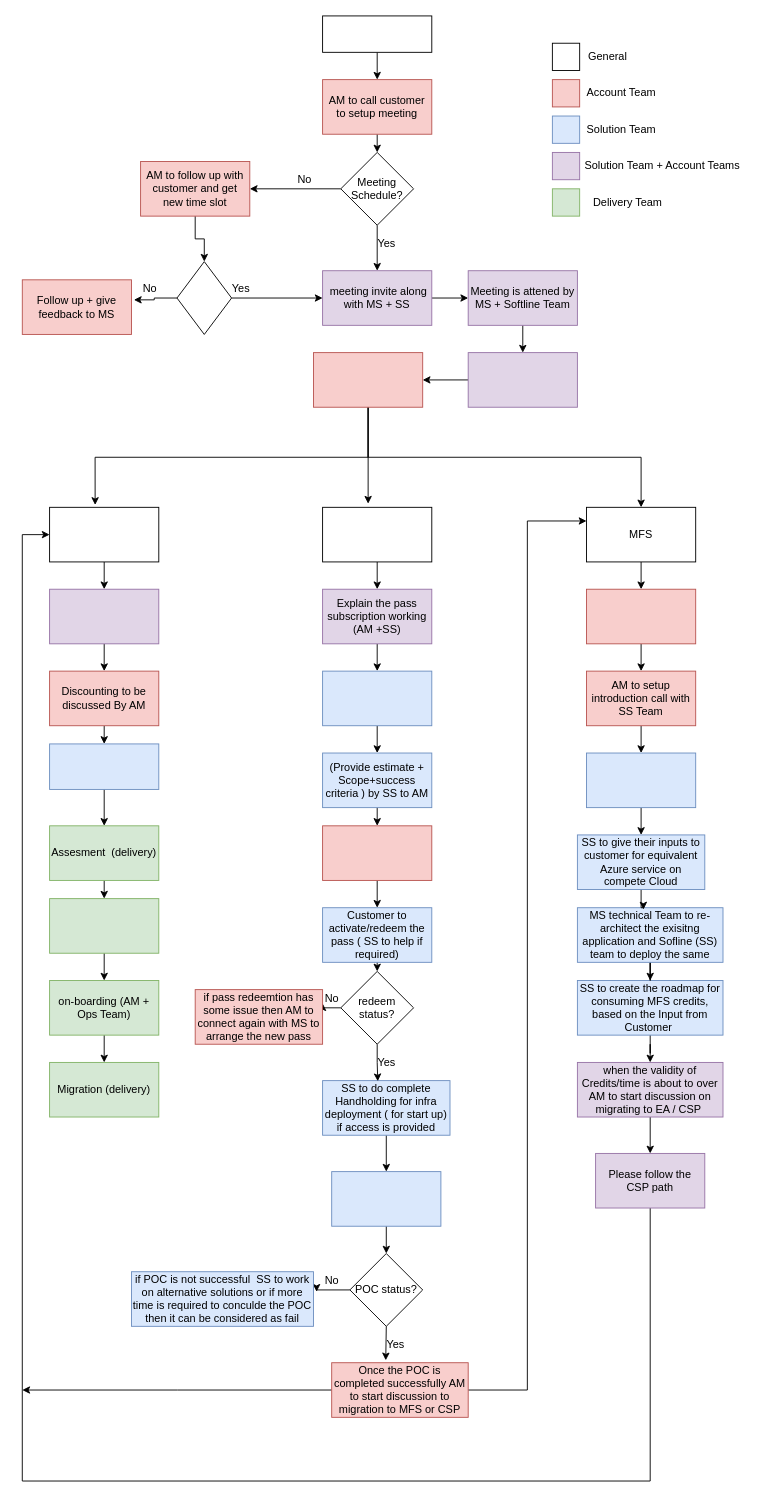
This 763x1504 diagram has some shape labels left out. The shapes that lost their labels are listed below. From the top down, each one's centre as x and y in pixels, then its label:
pixel 377 33: MS provides Leads
pixel 368 379: AM to Decide to move anyone of below 3
pixel 522 379: MOM to be shared By AM + technical input given by SS
pixel 104 534: CSP
pixel 377 534: POC/Pass
pixel 104 616: Explain the benits of Softline CSP (AM +SS)
pixel 641 616: once the Customer gets the MFS credits, SS team should be informed
pixel 377 698: gathering the requirement and designing the architecture (SS)
pixel 104 766: Provide estimate + Scope (SS)
pixel 641 780: SS to have discussion with the Customer's technical team.
pixel 377 852: AM to send the scope and estimate to MS to arrage the Pass
pixel 104 925: Send Assesment Report (delivery)
pixel 386 1198: Help to be taken from delivery Team in case of any troubleshooting
